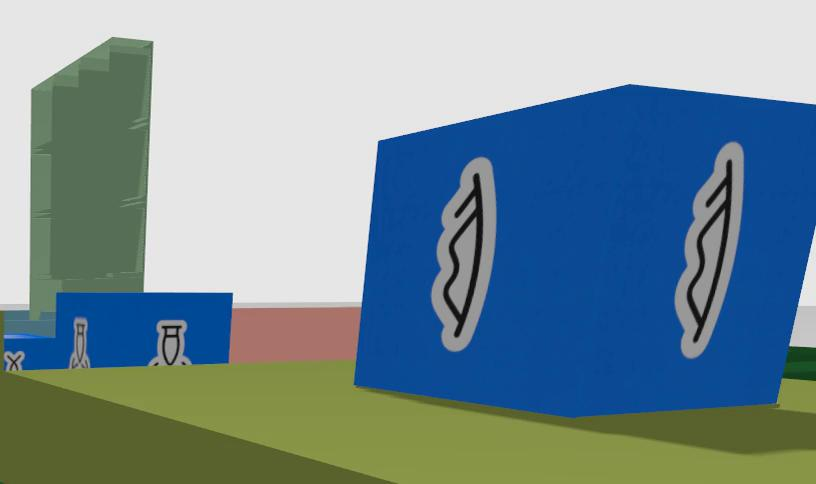KFS_REAL: (356, 86, 815, 416), (3, 293, 231, 372), (674, 142, 744, 358), (431, 157, 496, 351), (149, 320, 189, 364), (68, 317, 89, 367)
